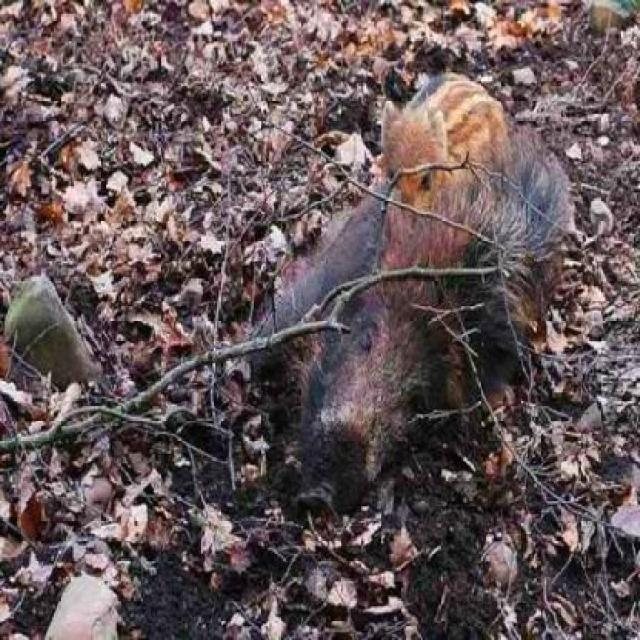Boar: (182, 33, 560, 504)
